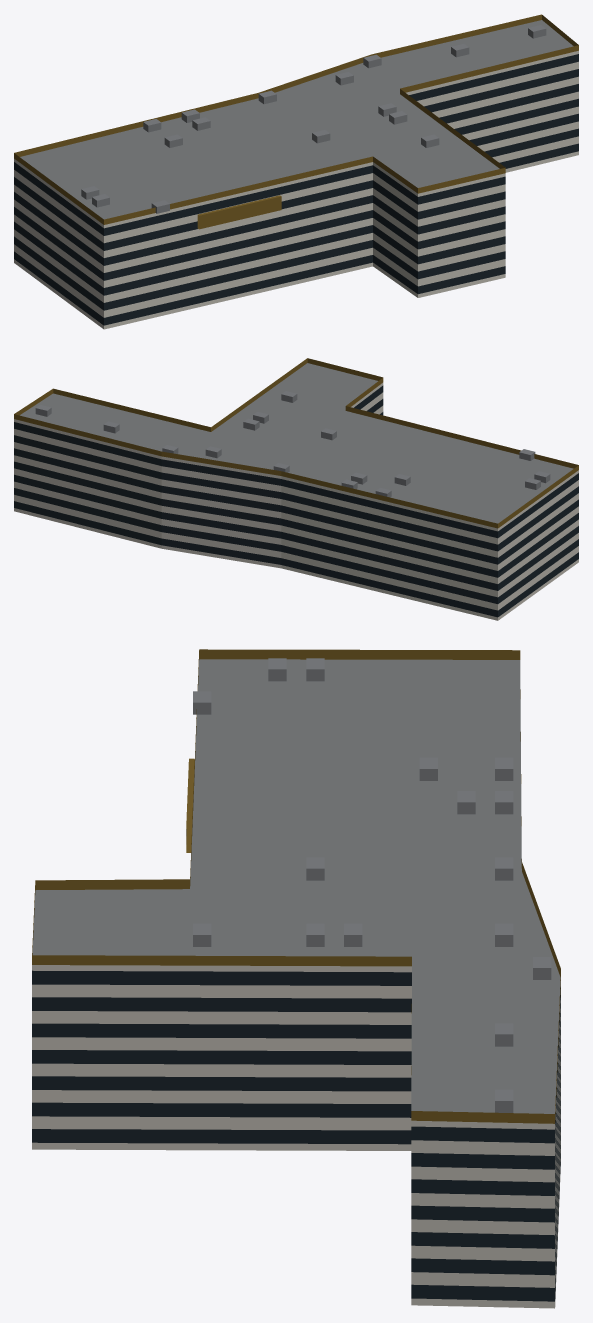
File: hotel-furaya-lod0.glb
The picture shows the model from 3 angles, top to bottom: view 1: azimuth 30°, elevation 25°; view 2: azimuth 150°, elevation 25°; view 3: azimuth 270°, elevation 25°; orthographic projection. The views are drawn at different scales.
Parts seen in each view (by area): view 1: hotel-furaya_LOD0; view 2: hotel-furaya_LOD0; view 3: hotel-furaya_LOD0.
Part boxes in pixels (x1,y1,x2,y2): hotel-furaya_LOD0: [14, 14, 578, 329]; hotel-furaya_LOD0: [14, 358, 578, 620]; hotel-furaya_LOD0: [32, 649, 560, 1308].
Bounding box in the file's own units: 132 × 26.1 × 63.6.
